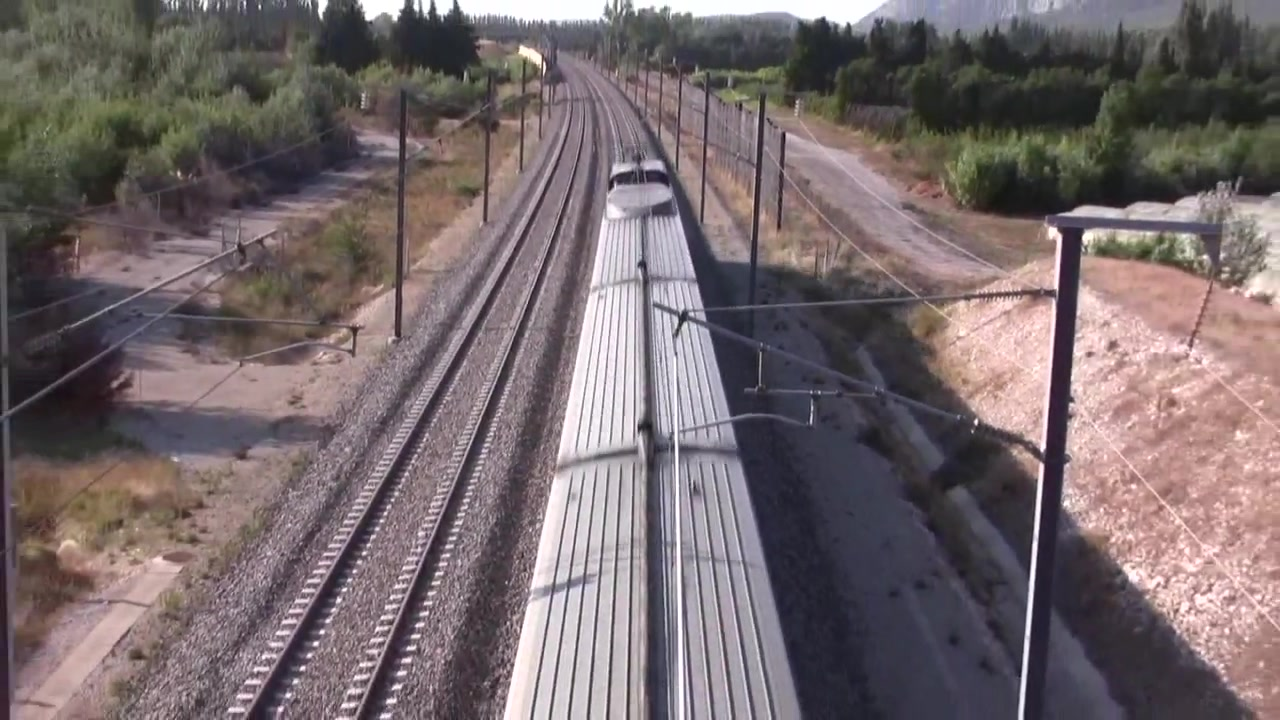train: (498, 158, 805, 720)
